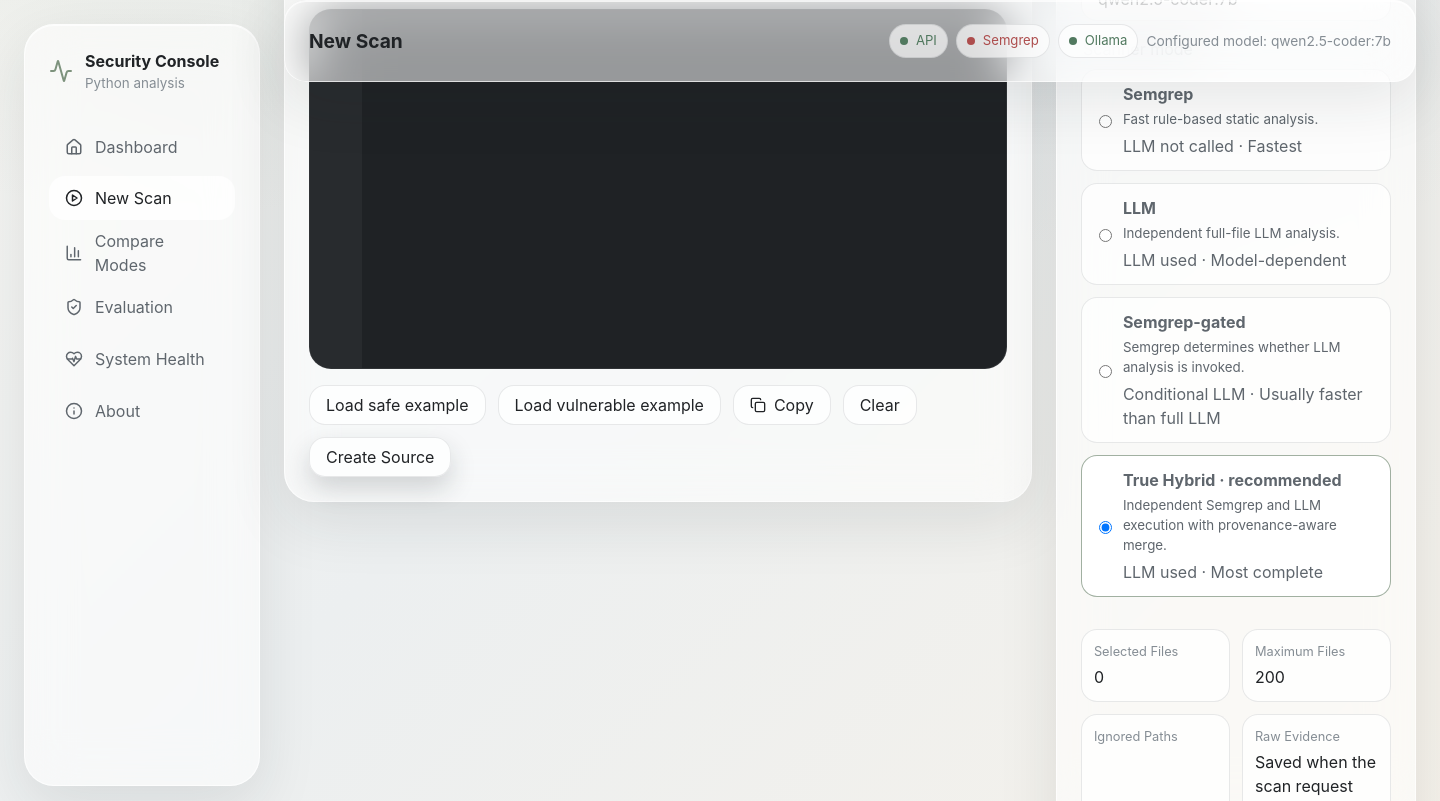
New Scan ingestion › displays backend ingestion errors
(page scrolled)
Click the button "Load safe example" at (397, 405), box [309, 385, 486, 425]
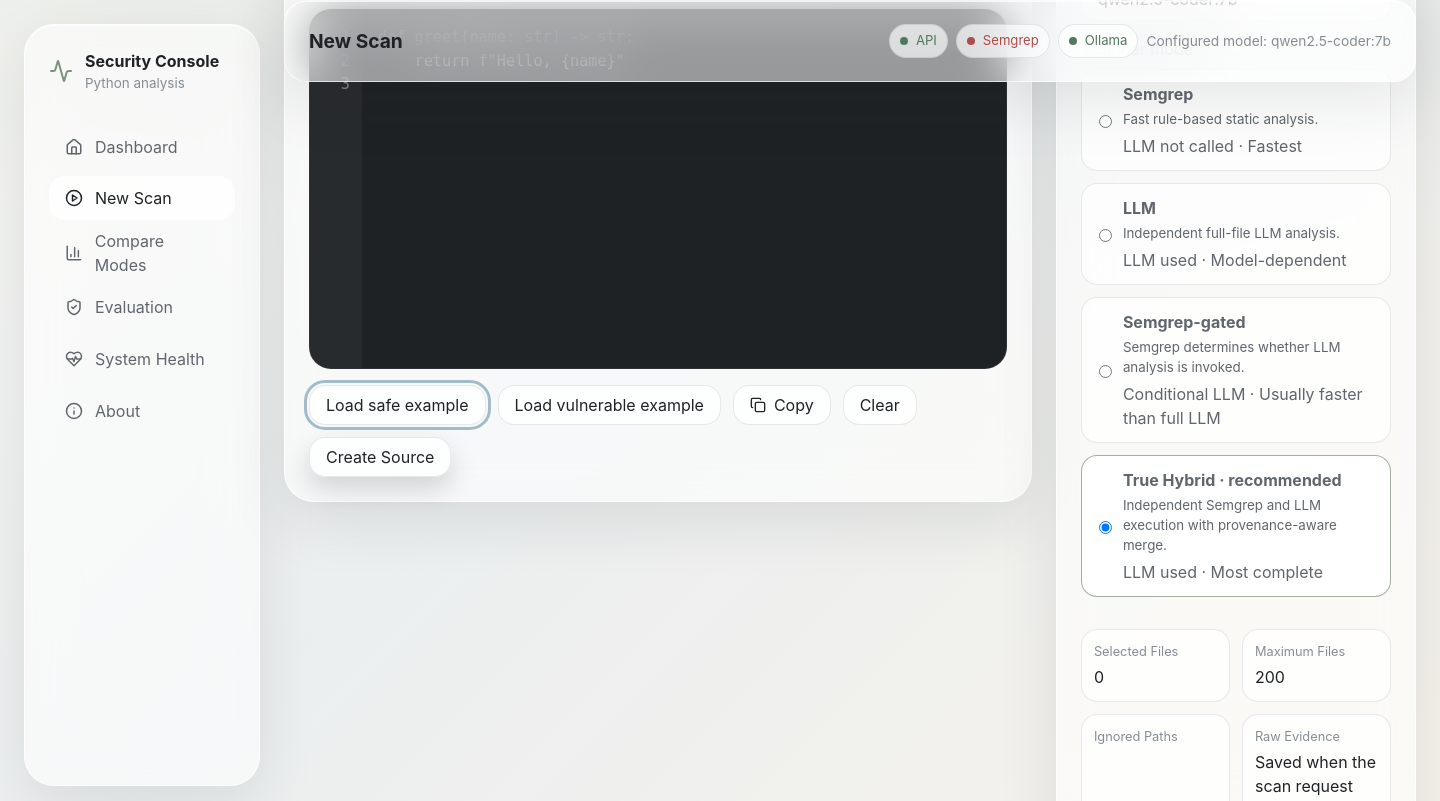
Click the button "Create Source" at (380, 457), box [309, 437, 451, 477]
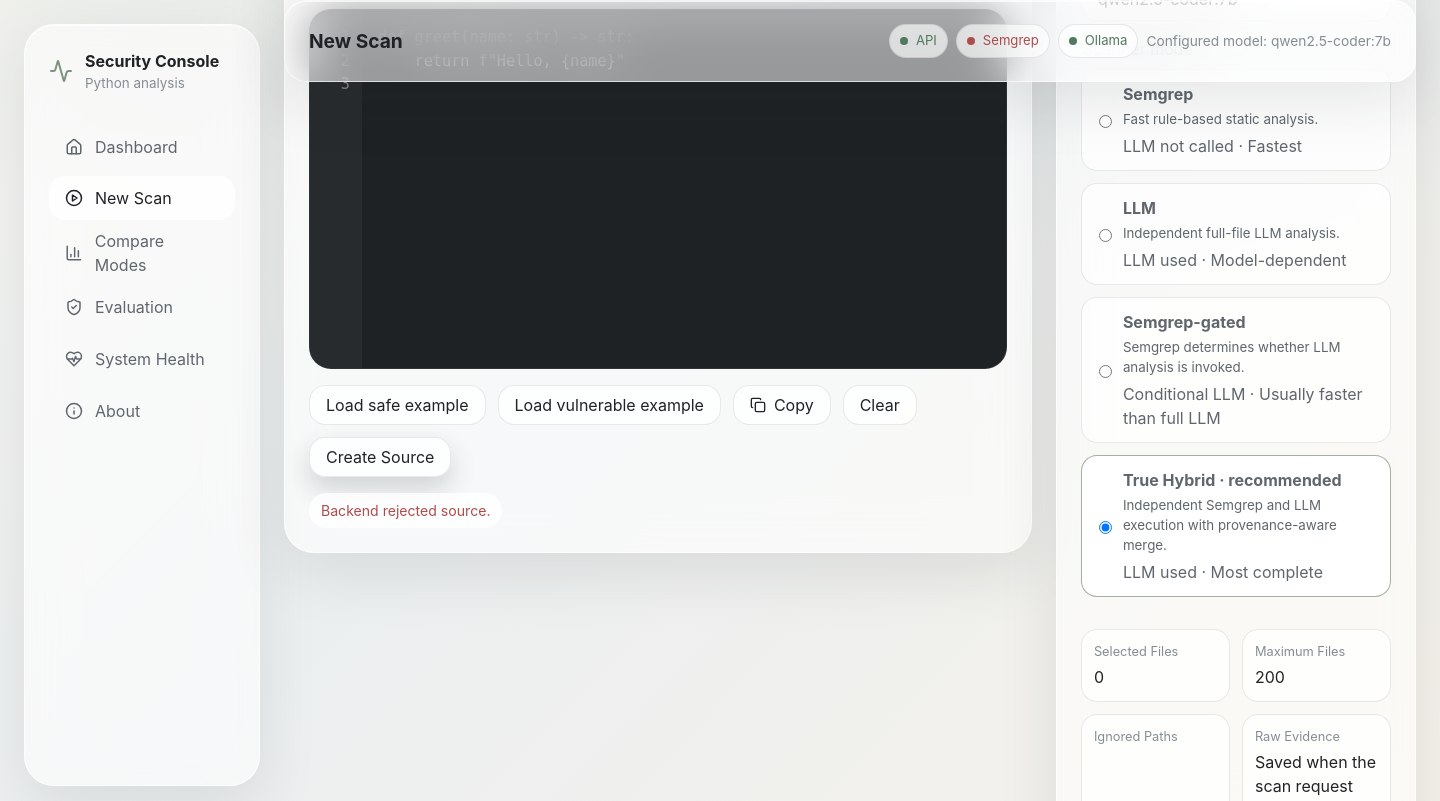
Check: the text "Backend rejected source." is shown, box [309, 493, 502, 528]
